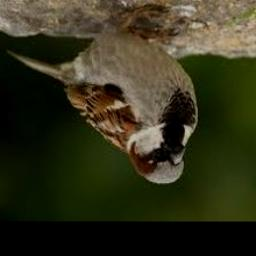Sparrow: (7, 4, 198, 184)
